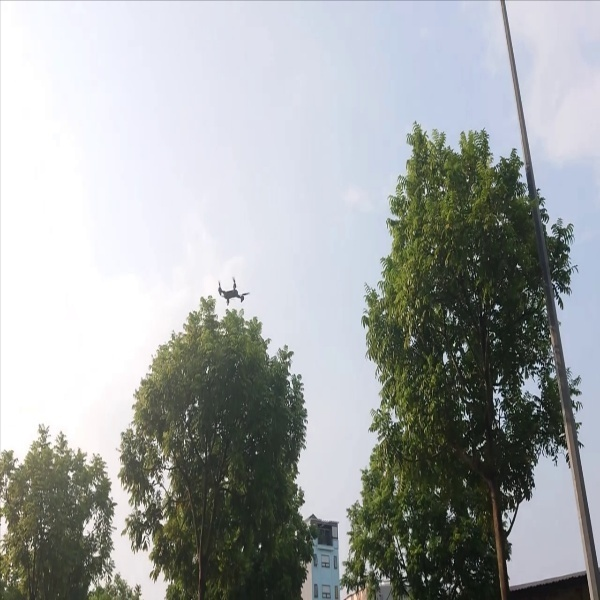drone: (210, 273, 249, 308)
